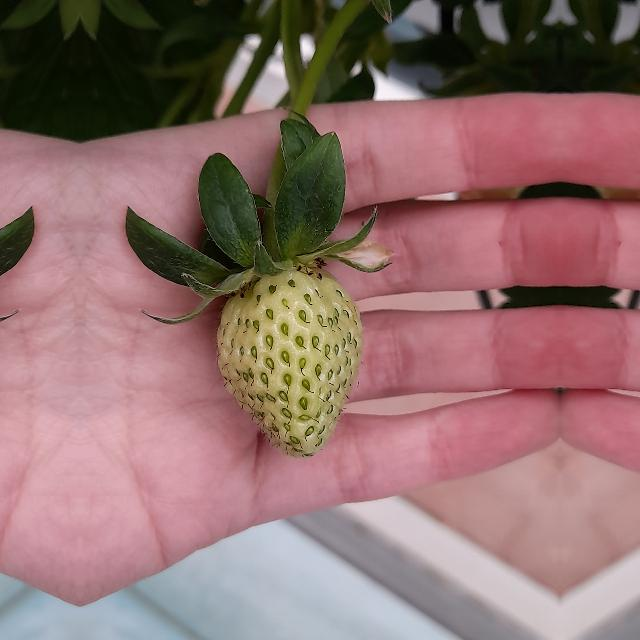Health_25: (217, 266, 363, 458)
